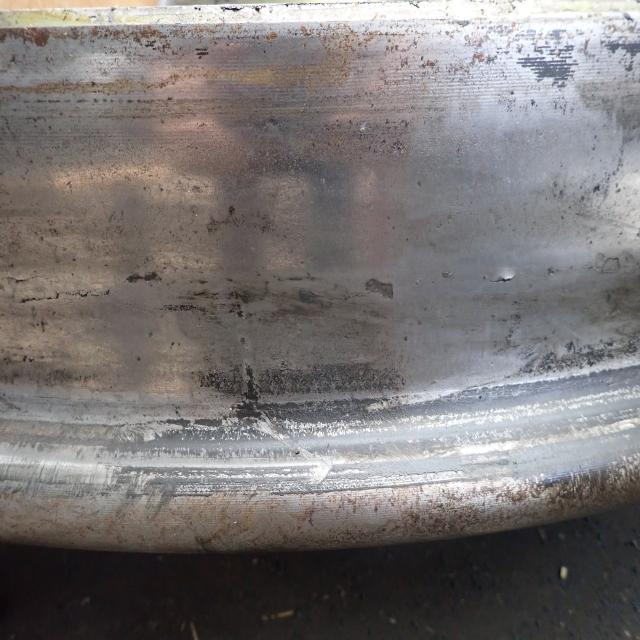Peeling: (236, 364, 263, 421), (366, 277, 397, 301), (123, 271, 165, 287), (602, 258, 623, 279), (229, 204, 240, 220)
